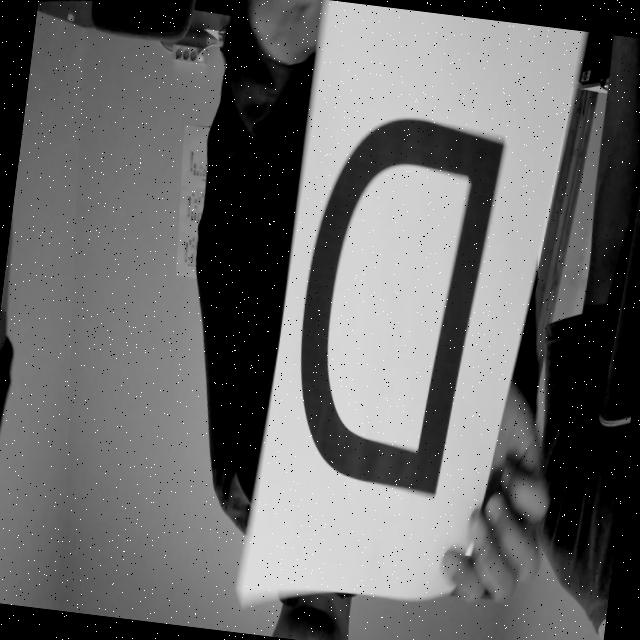d: (265, 71, 515, 516)
